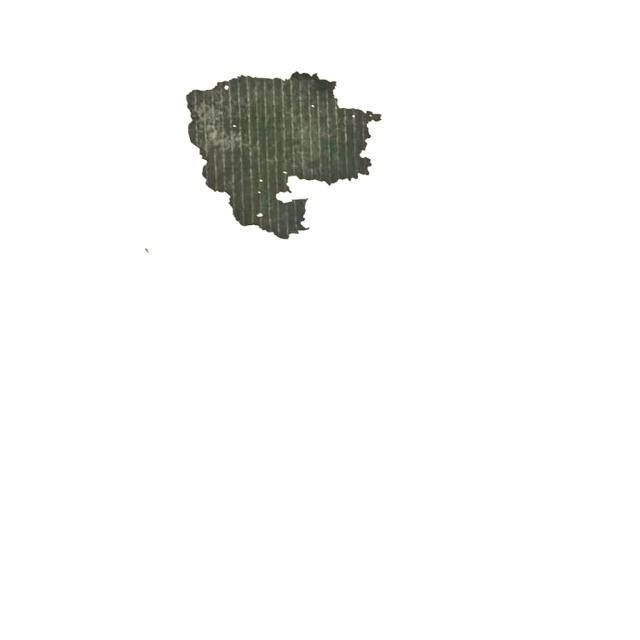surface_peeling: (177, 64, 396, 249)
